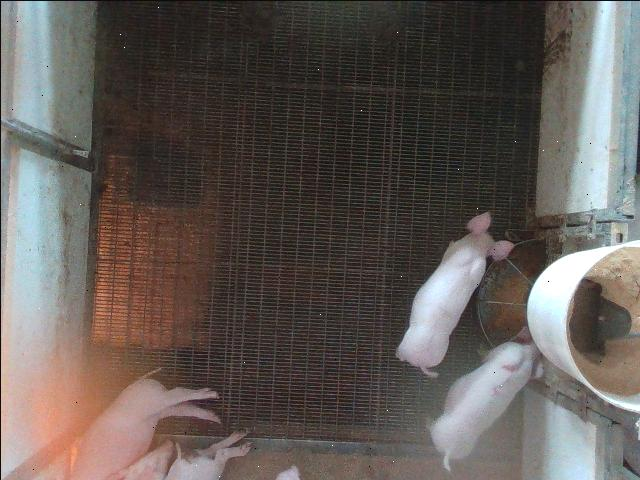pig-5: (430, 341, 539, 468)
